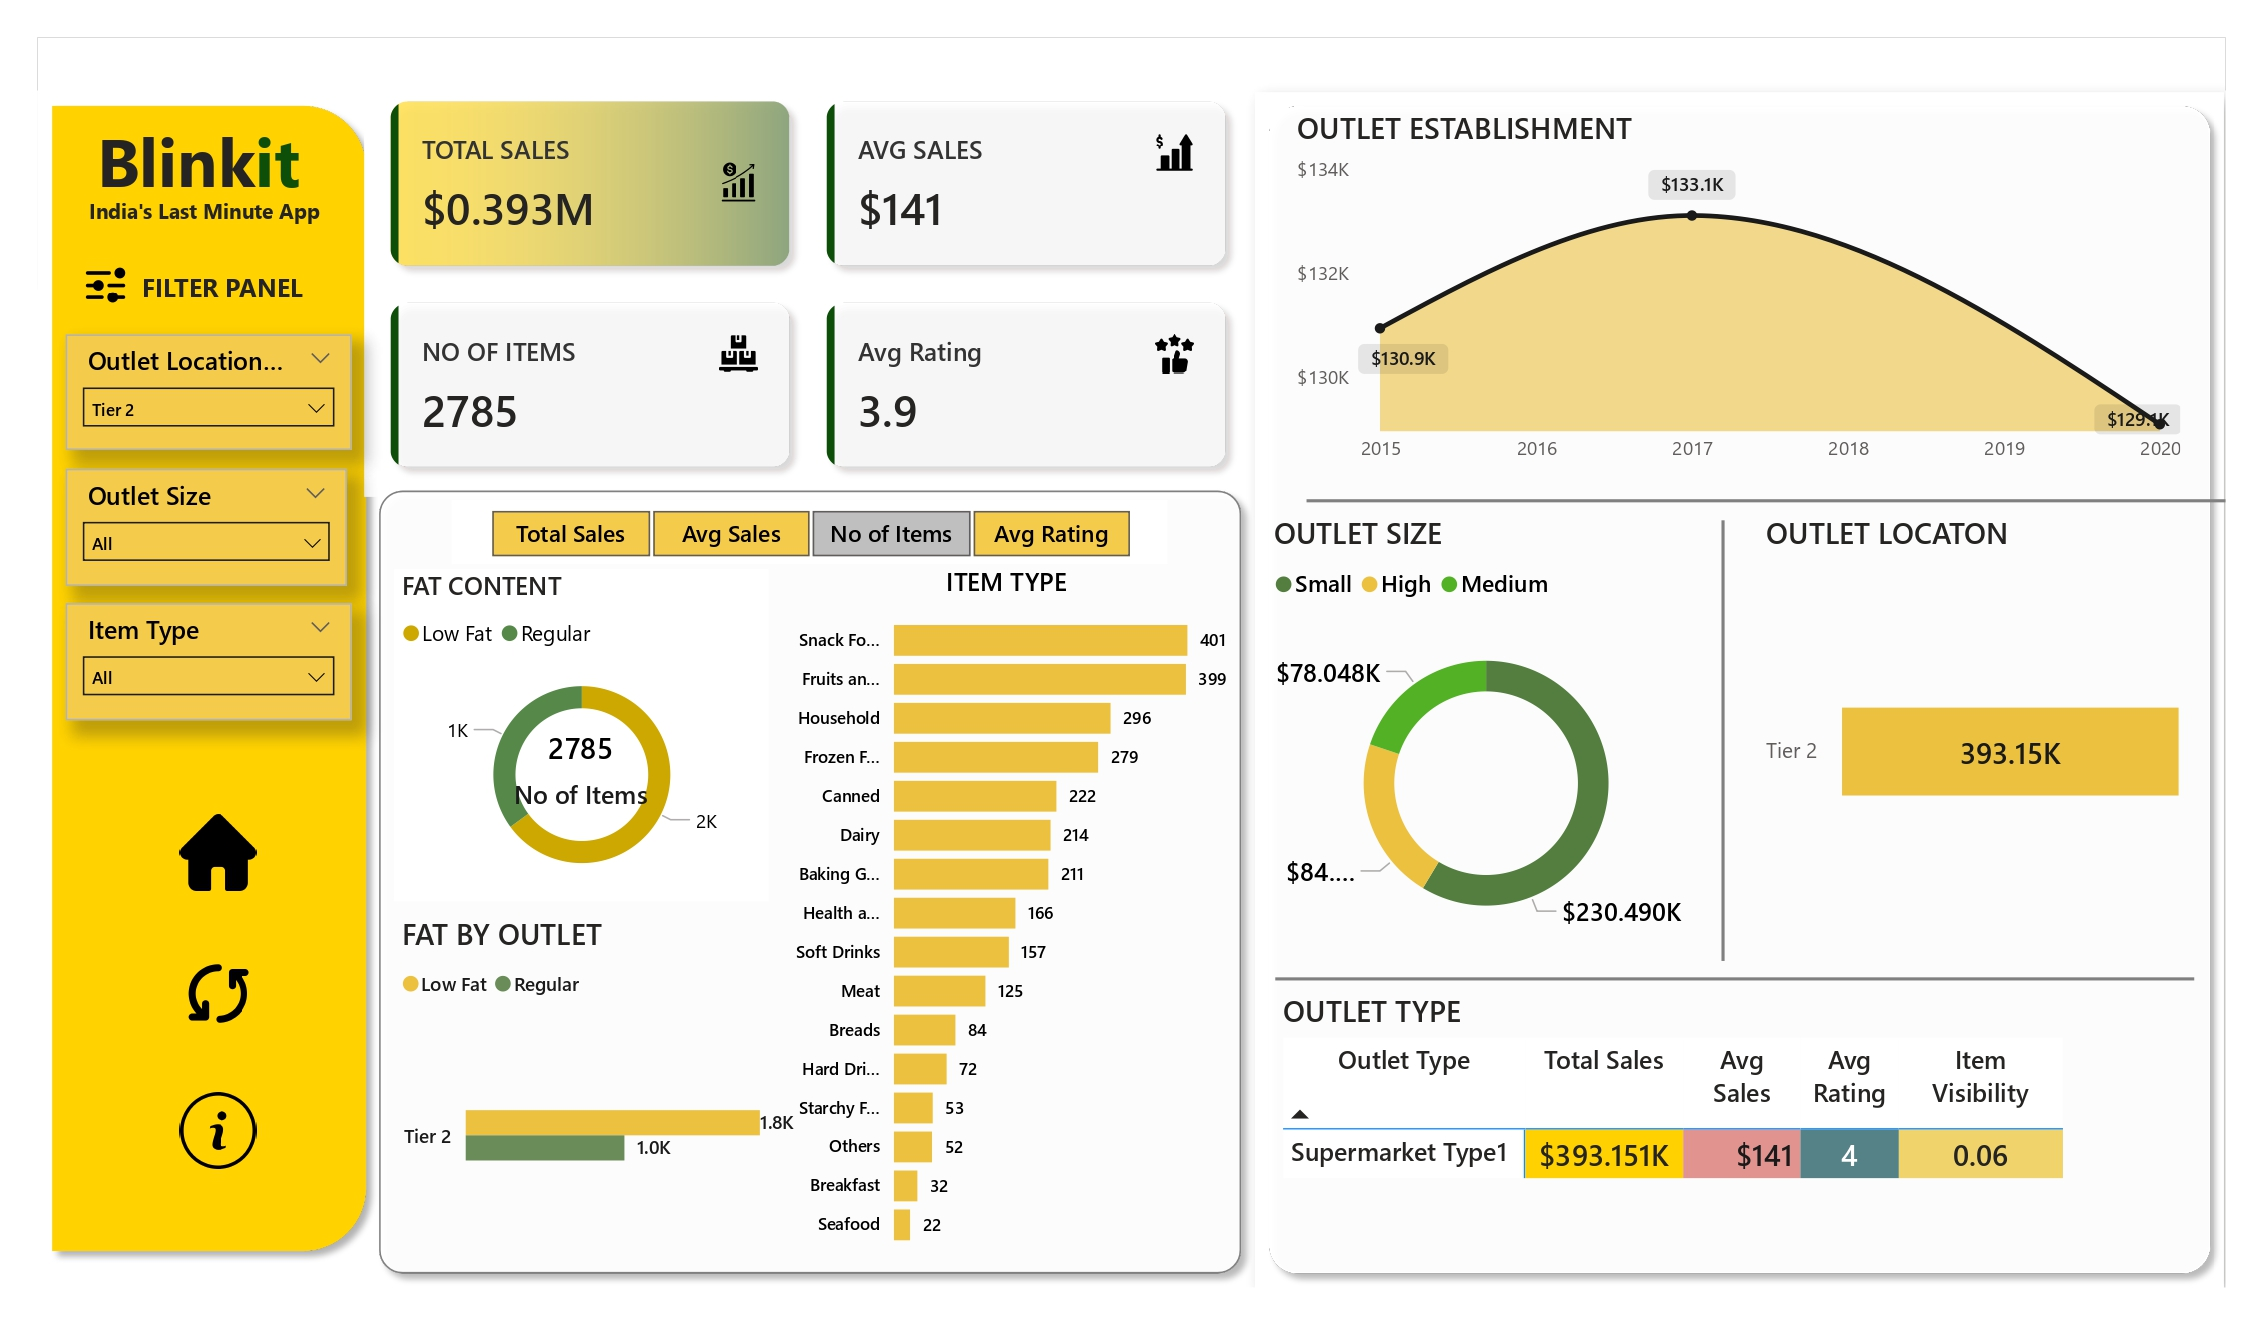

The page's visual inventory and layout, read from the dashboard file:
{"tool":"powerbi","page":{"name":"Page 1","canvas":[1400,800],"ordinal":0},"visuals":[{"type":"shape","box":[0,34.6,218.5,751],"z":0},{"type":"textbox","box":[21.1,45,177.1,73.1],"z":1000},{"type":"textbox","box":[28.1,97,177.1,40.8],"z":2000},{"type":"cardVisual","fields":{"Data":["BlinkIT Grocery Data.Total Sales","BlinkIT Grocery Data.Avg Sales","BlinkIT Grocery Data.No of Items","BlinkIT Grocery Data.Avg Rating"]},"box":[209,23.9,569.6,269.9],"z":3000},{"type":"shape","box":[209,280.6,569.6,519.4],"z":4000},{"type":"donutChart","title":"FAT CONTENT","fields":{"Y":["BlinkIT Grocery Data.No of Items"],"Category":["BlinkIT Grocery Data.Item Fat Content"]},"box":[227.5,339.5,240.6,213.9],"z":5000},{"type":"slicer","fields":{"Values":["Metrics.Metrics"]},"box":[264.8,296.1,458.6,40.9],"z":6000},{"type":"card","fields":{"Values":["BlinkIT Grocery Data.No of Items"]},"box":[296.5,419.7,102.7,94.3],"z":7000},{"type":"clusteredBarChart","title":"FAT BY OUTLET","fields":{"Y":["BlinkIT Grocery Data.No of Items"],"Category":["BlinkIT Grocery Data.Outlet Location Type"],"Series":["BlinkIT Grocery Data.Item Fat Content"]},"box":[227.5,561,261.2,223.9],"z":8000},{"type":"barChart","title":"ITEM TYPE","fields":{"Y":["BlinkIT Grocery Data.No of Items"],"Category":["BlinkIT Grocery Data.Item Type"]},"box":[468.3,337.1,303.4,447.8],"z":9000},{"type":"shape","box":[778.5,34.6,620.9,765.4],"z":10000},{"type":"lineChart","title":"OUTLET ESTABLISHMENT","fields":{"Category":["BlinkIT Grocery Data.Outlet Establishment Year"],"Y":["BlinkIT Grocery Data.Total Sales"]},"box":[801.2,45.4,574.3,235.2],"z":11000},{"type":"shape","box":[811.9,279,588.1,34.7],"z":12000},{"type":"donutChart","title":"OUTLET SIZE","fields":{"Y":["BlinkIT Grocery Data.Total Sales"],"Category":["BlinkIT Grocery Data.Outlet Size"]},"box":[785.7,304.5,281.8,290.1],"z":13000},{"type":"shape","box":[1057.9,309.3,40.6,281.8],"z":14000},{"type":"funnel","title":"OUTLET LOCATON","fields":{"Y":["Sum(BlinkIT Grocery Data.Sales)"],"Category":["BlinkIT Grocery Data.Outlet Location Type"]},"box":[1100.9,304.5,279.4,280.6],"z":15000},{"type":"shape","box":[791.6,585.1,588.7,34.6],"z":16000},{"type":"pivotTable","title":"OUTLET TYPE","fields":{"Rows":["BlinkIT Grocery Data.Outlet Type"],"Values":["BlinkIT Grocery Data.Total Sales","BlinkIT Grocery Data.Avg Sales","BlinkIT Grocery Data.Avg Rating","Avg(BlinkIT Grocery Data.Item Visibility)"]},"box":[791.6,610.1,583.9,155.2],"z":17000},{"type":"slicer","fields":{"Values":["BlinkIT Grocery Data.Outlet Location Type"]},"box":[18.2,189.6,183,74.6],"z":18000},{"type":"slicer","fields":{"Values":["BlinkIT Grocery Data.Outlet Size"]},"box":[17.9,275.8,180.3,75.2],"z":19000},{"type":"slicer","fields":{"Values":["BlinkIT Grocery Data.Item Type"]},"box":[17.9,361.8,182.7,75.2],"z":20000},{"type":"image","box":[85.5,492.1,60.3,58.8],"z":21000},{"type":"image","box":[85.5,582.6,60.3,58.8],"z":22000},{"type":"image","box":[85.5,670,60.3,58.8],"z":23000},{"type":"textbox","box":[62.3,144,123.7,37.7],"z":24000},{"type":"image","box":[24.6,135,37.7,46.7],"z":25000}]}

Visuals, with their boxes in screenshot pixels (x1, y1, x2, y2):
shape: x1=38, y1=92, x2=379, y2=1265
textbox: x1=70, y1=108, x2=347, y2=222
textbox: x1=81, y1=189, x2=358, y2=253
cardVisual - BlinkIT Grocery Data.Total Sales x BlinkIT Grocery Data.Avg Sales: x1=364, y1=75, x2=1254, y2=497
shape: x1=364, y1=476, x2=1254, y2=1288
"FAT CONTENT" donutChart: x1=393, y1=568, x2=769, y2=902
slicer - Metrics.Metrics: x1=451, y1=500, x2=1168, y2=564
card - BlinkIT Grocery Data.No of Items: x1=501, y1=693, x2=661, y2=841
"FAT BY OUTLET" clusteredBarChart: x1=393, y1=914, x2=801, y2=1264
"ITEM TYPE" barChart: x1=769, y1=564, x2=1244, y2=1264
shape: x1=1254, y1=92, x2=2225, y2=1288
"OUTLET ESTABLISHMENT" lineChart: x1=1290, y1=108, x2=2187, y2=476
shape: x1=1306, y1=473, x2=2225, y2=528
"OUTLET SIZE" donutChart: x1=1265, y1=513, x2=1706, y2=967
shape: x1=1691, y1=521, x2=1754, y2=961
"OUTLET LOCATON" funnel: x1=1758, y1=513, x2=2195, y2=952
shape: x1=1275, y1=952, x2=2195, y2=1006
"OUTLET TYPE" pivotTable: x1=1275, y1=991, x2=2187, y2=1233
slicer - BlinkIT Grocery Data.Outlet Location Type: x1=66, y1=334, x2=352, y2=450
slicer - BlinkIT Grocery Data.Outlet Size: x1=65, y1=468, x2=347, y2=586
slicer - BlinkIT Grocery Data.Item Type: x1=65, y1=603, x2=351, y2=720
image: x1=171, y1=806, x2=265, y2=898
image: x1=171, y1=948, x2=265, y2=1040
image: x1=171, y1=1084, x2=265, y2=1176
textbox: x1=135, y1=262, x2=328, y2=321
image: x1=76, y1=248, x2=135, y2=321
